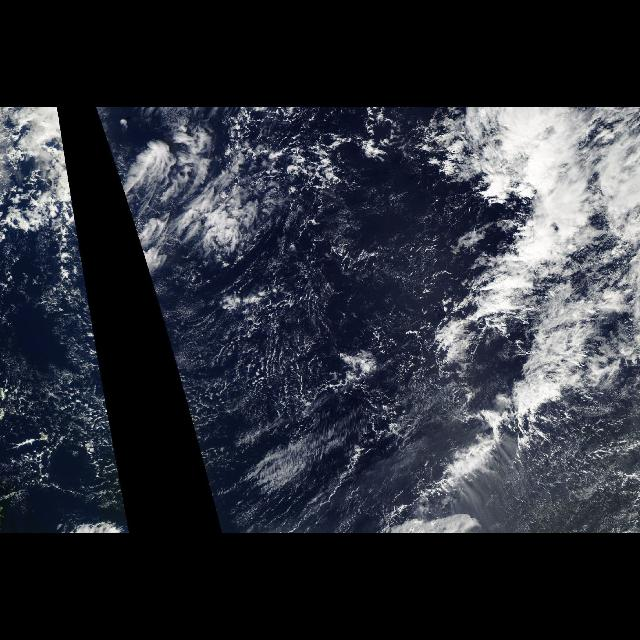Gravel: (147, 268, 421, 488), (10, 269, 121, 501)
Sugar: (162, 304, 640, 532)
